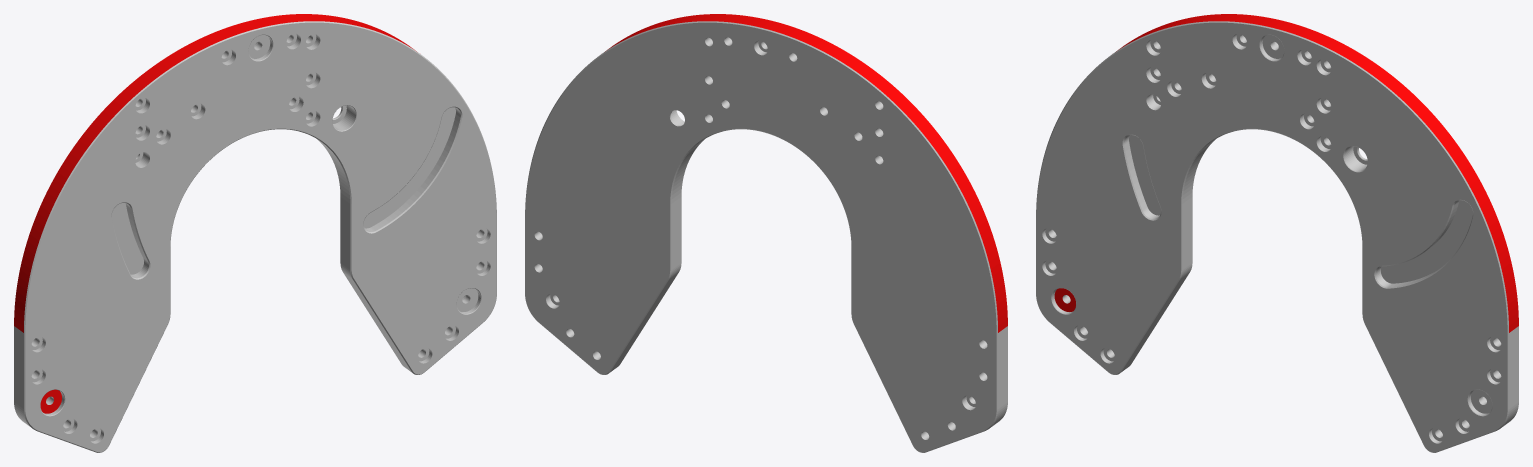
File: 15_edit_stp_36_3.obj
The picture shows the model from 3 angles, left to right: view 1: azimuth 30°, elevation 25°; view 2: azimuth 150°, elevation 25°; view 3: azimuth 330°, elevation 25°; orthographic projection.
Visible parts, largest first — view 1: Object1; view 2: Object1; view 3: Object1.
Boxes of the visible parts, x1,y1,x2,y2 form: Object1: (14, 14, 496, 452); Object1: (525, 14, 1007, 452); Object1: (1036, 14, 1518, 452).
Size of the model in its own units: 1000 by 780 by 40.
